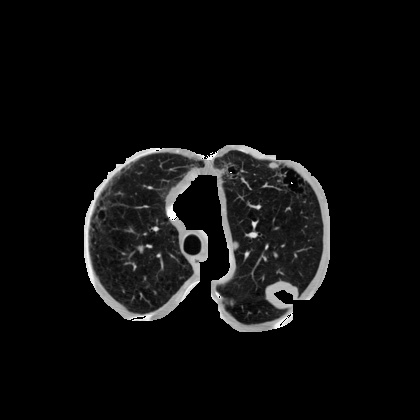PN: (268, 161, 276, 169)
